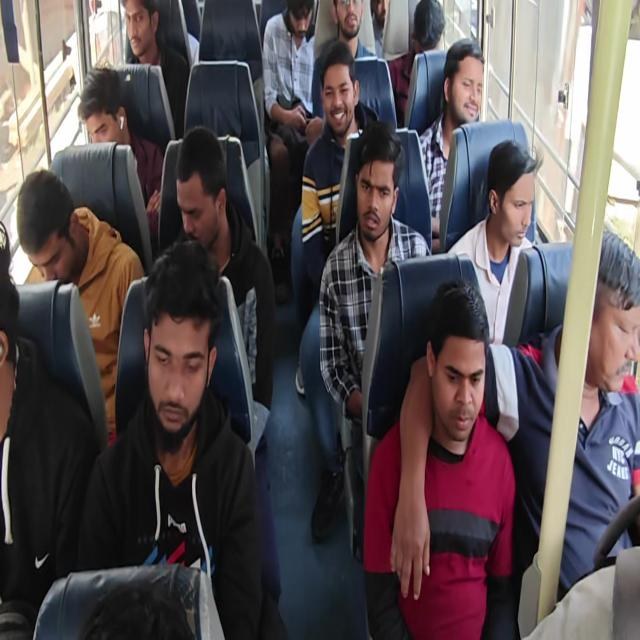person: (138, 285, 212, 439), (575, 252, 640, 406), (428, 299, 489, 442), (18, 181, 82, 287), (172, 145, 234, 253), (484, 144, 532, 247), (78, 69, 135, 154), (352, 139, 392, 241), (0, 220, 19, 411), (444, 49, 485, 130), (321, 66, 358, 135), (114, 0, 155, 54), (410, 0, 443, 61), (278, 0, 318, 48), (332, 0, 363, 44)
